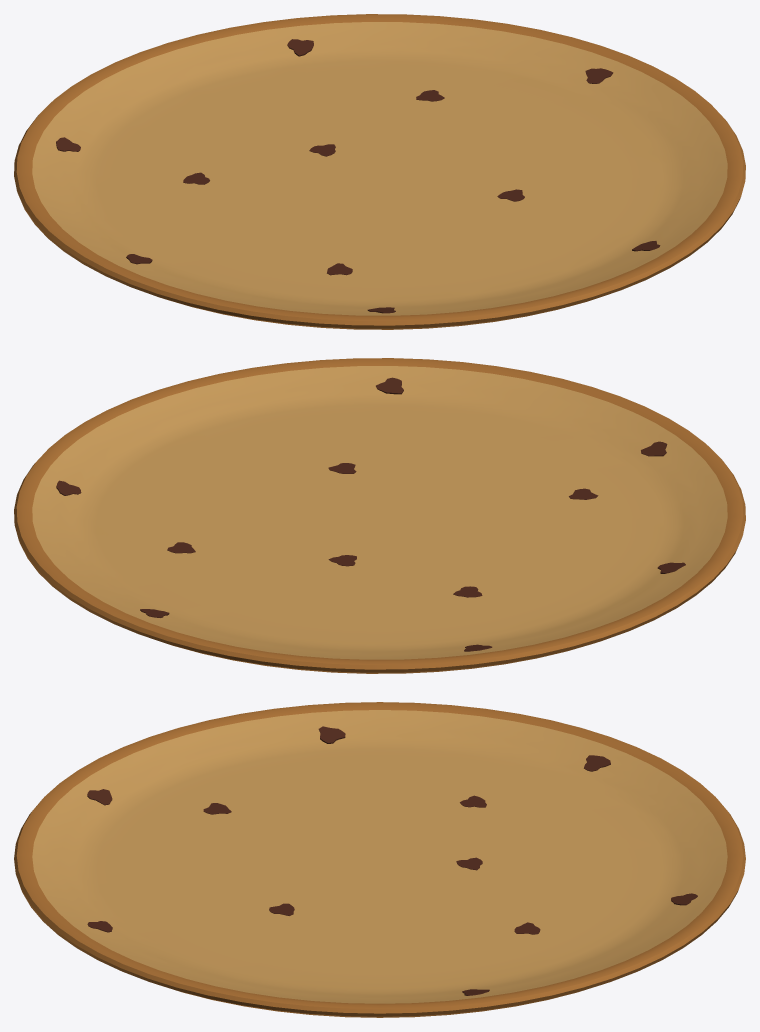
Rendered from plate_cookie.glb.
The picture shows the model from 3 angles, top to bottom: view 1: azimuth 30°, elevation 25°; view 2: azimuth 150°, elevation 25°; view 3: azimuth 270°, elevation 25°; orthographic projection.
Visible parts, largest first — view 1: body; view 2: body; view 3: body.
Boxes of the visible parts, x1=… form: body: x1=14, y1=14, x2=745, y2=329; body: x1=14, y1=358, x2=745, y2=673; body: x1=14, y1=702, x2=745, y2=1017.
Bounding box in the file's own units: 1.6 × 0.0939 × 1.6.
